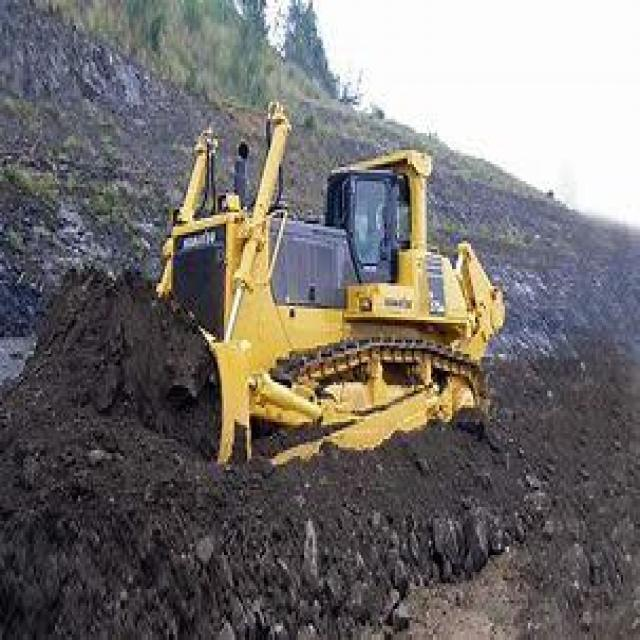Bulldozer: (127, 96, 511, 473)
